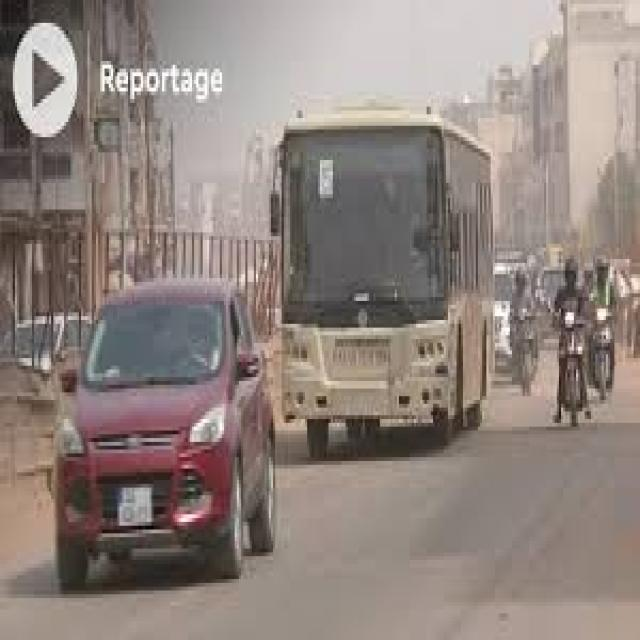bus dem dikk: (285, 110, 495, 459)
moto: (557, 309, 587, 427), (511, 305, 540, 396), (590, 307, 615, 401)
particulier: (57, 282, 276, 590)
